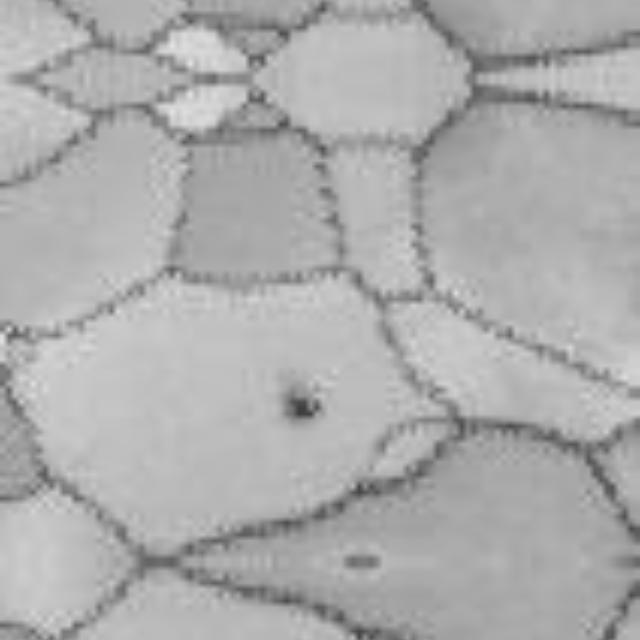good_void: (264, 357, 341, 435)
